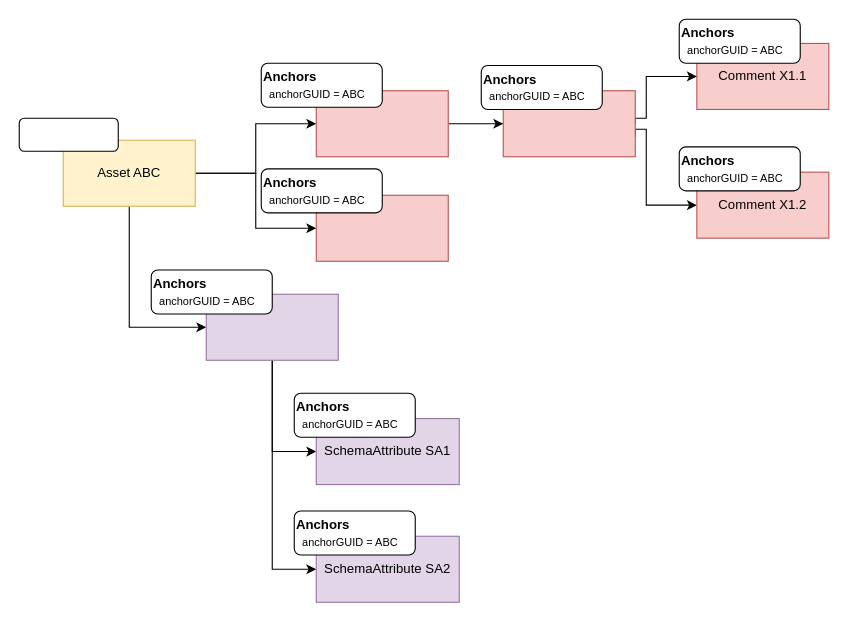
Image size: 848x622. Some labels were removed from this diagram. Here are the shapes that lost their labels. From the top down, the box of each, then its label:
(18, 117, 118, 151): LatestChange
(315, 90, 448, 157): Comment X
(502, 90, 635, 157): Comment X1
(315, 194, 448, 261): Comment Y
(205, 293, 338, 360): SchemaType ST
